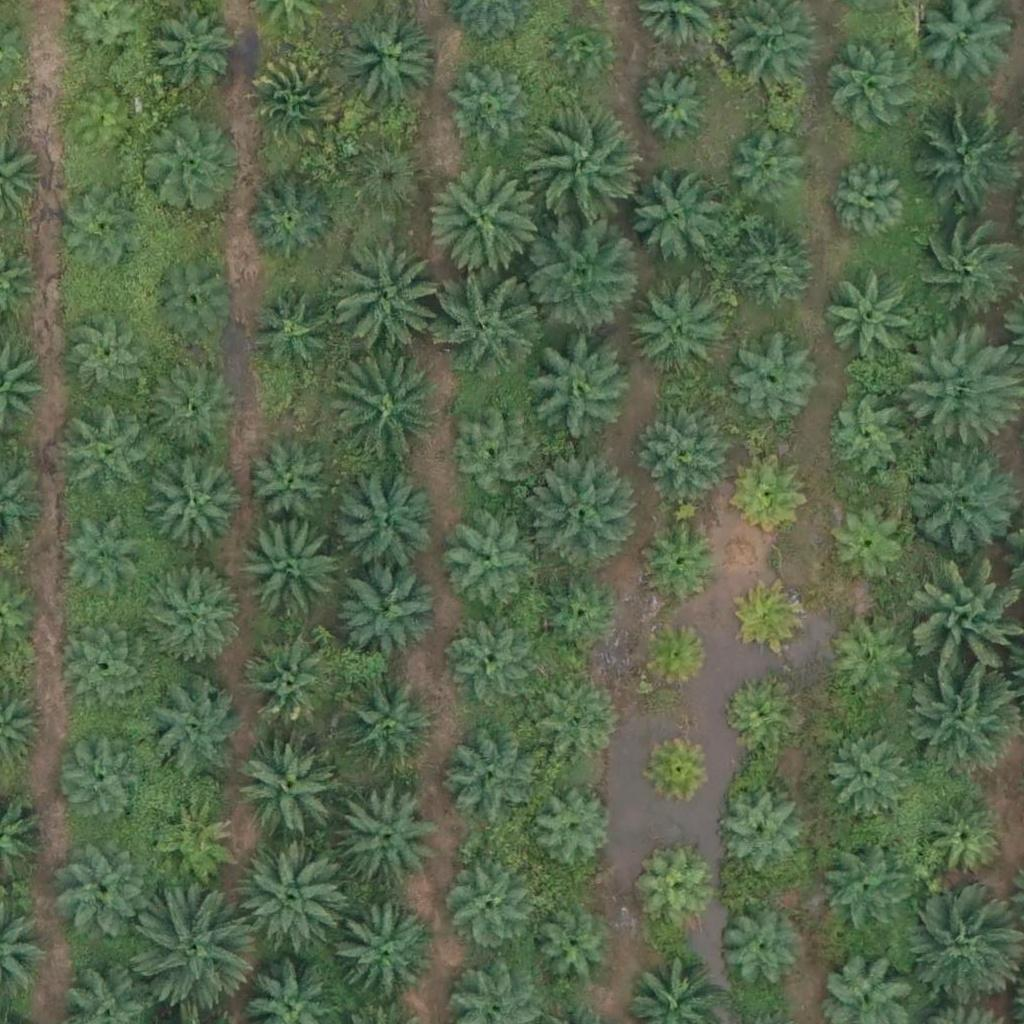Kelapa_Sawit: (328, 244, 441, 358), (326, 903, 439, 1016), (910, 663, 1023, 776), (523, 221, 636, 334), (524, 331, 637, 444), (525, 454, 638, 567), (434, 267, 547, 380), (430, 163, 543, 276), (324, 358, 437, 471), (136, 895, 249, 1008), (911, 106, 1023, 220), (530, 111, 642, 225), (901, 897, 1013, 1010), (238, 847, 350, 960), (903, 441, 1015, 554), (903, 326, 1015, 439), (907, 213, 1019, 326), (337, 782, 437, 883), (822, 271, 922, 372), (626, 275, 726, 376), (336, 4, 436, 105), (333, 474, 433, 575), (338, 557, 438, 658), (238, 730, 338, 831), (337, 674, 437, 775), (444, 726, 544, 827), (240, 522, 340, 623), (144, 559, 244, 660), (625, 170, 725, 270), (140, 116, 240, 216), (249, 51, 349, 151), (145, 677, 245, 777), (61, 405, 161, 505), (824, 157, 912, 246), (53, 733, 141, 822), (918, 796, 1006, 884), (713, 789, 801, 877), (439, 861, 527, 949), (535, 569, 623, 657), (535, 687, 623, 775), (832, 47, 920, 135), (726, 120, 814, 208), (338, 137, 426, 225), (150, 253, 238, 341), (243, 283, 331, 371), (821, 497, 909, 585), (826, 620, 914, 708), (445, 525, 533, 613), (446, 617, 534, 705), (447, 68, 535, 156), (248, 176, 336, 264), (248, 433, 336, 521), (64, 315, 152, 403), (56, 518, 144, 606), (60, 622, 148, 710), (818, 846, 905, 935), (715, 905, 802, 993), (531, 785, 618, 873), (528, 909, 615, 997), (60, 838, 147, 926), (729, 225, 816, 313), (824, 395, 911, 483), (825, 729, 912, 817), (639, 405, 726, 493), (726, 336, 813, 424), (451, 414, 538, 502), (243, 639, 330, 727), (143, 4, 230, 92), (149, 362, 236, 450), (57, 186, 144, 274), (152, 463, 239, 551), (53, 87, 140, 175), (151, 799, 238, 887), (636, 70, 711, 146), (720, 675, 795, 751), (637, 855, 712, 931), (642, 728, 717, 804), (735, 579, 810, 655), (645, 521, 720, 596), (637, 618, 712, 693), (735, 457, 810, 532), (547, 14, 609, 77)
